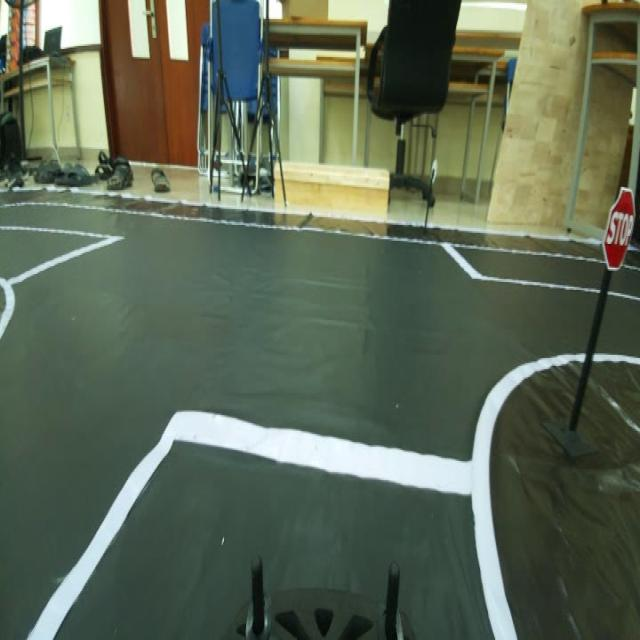stop: (596, 182, 638, 271)
